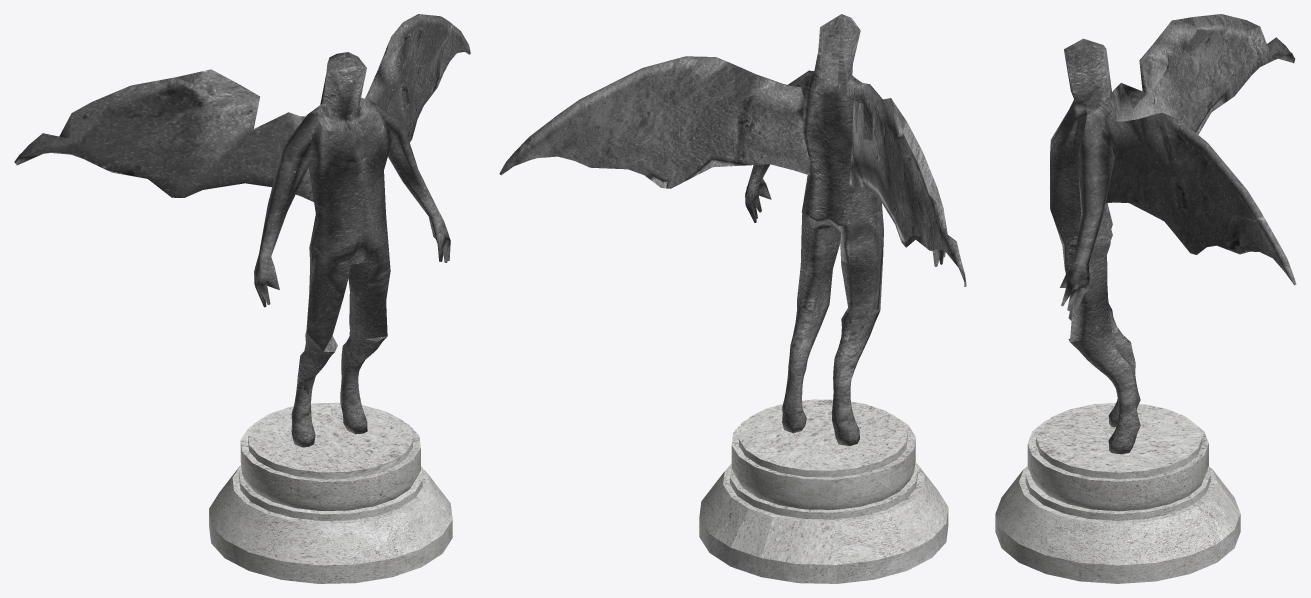
File: LowPolyStatue_Finish.fbx
3 renders of one model, left to right at view 1: azimuth 30°, elevation 25°; view 2: azimuth 150°, elevation 25°; view 3: azimuth 270°, elevation 25°, orthographic. The views are drawn at different scales.
Parts seen in each view (by area): view 1: polySurface8; view 2: polySurface8; view 3: polySurface8.
Boxes of the visible parts, x1,y1,x2,y2 form: polySurface8: [14, 14, 470, 583]; polySurface8: [499, 14, 966, 583]; polySurface8: [995, 14, 1296, 583].
Bounding box in the file's own units: 10.14 × 10.46 × 5.78.
Materials: 2 (2 with a texture image).
